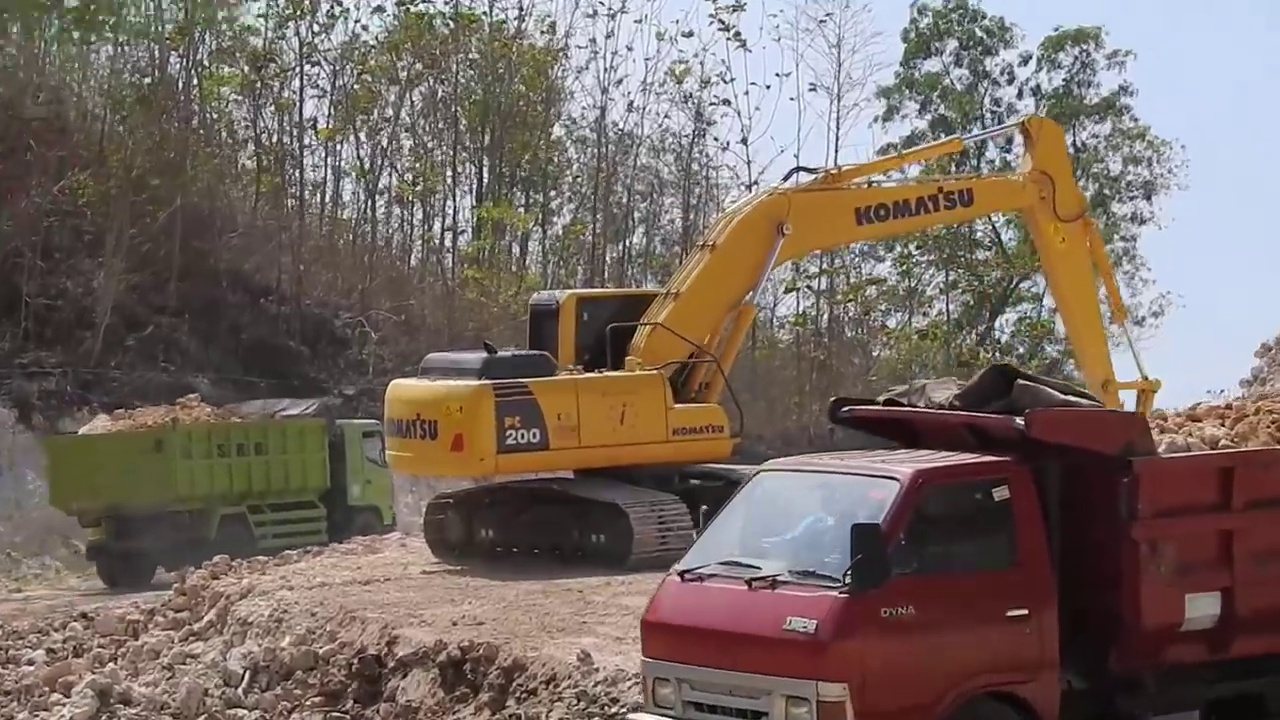excavator: (378, 110, 1171, 583)
truck: (626, 362, 1280, 720), (40, 395, 399, 596)
